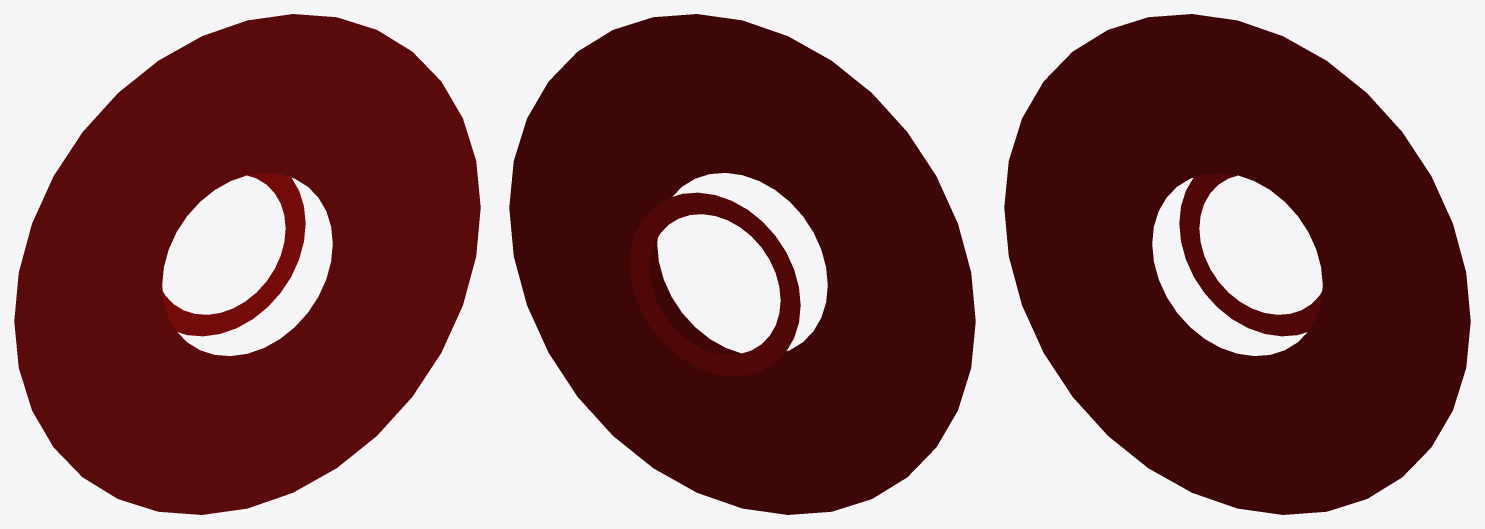
The model's file is SM_Holo_Circle_Y.fbx.
3 views of the same model, side by side, from view 1: azimuth 30°, elevation 25°; view 2: azimuth 150°, elevation 25°; view 3: azimuth 330°, elevation 25° (orthographic).
Visible parts, largest first — view 1: SM_Holo_Circle_Y; view 2: SM_Holo_Circle_Y; view 3: SM_Holo_Circle_Y.
Boxes of the visible parts, x1,y1,x2,y2 form: SM_Holo_Circle_Y: (14, 14, 480, 514); SM_Holo_Circle_Y: (509, 14, 975, 514); SM_Holo_Circle_Y: (1004, 14, 1470, 514).
Size of the model in its own units: 26.19 by 2.67 by 26.19.
